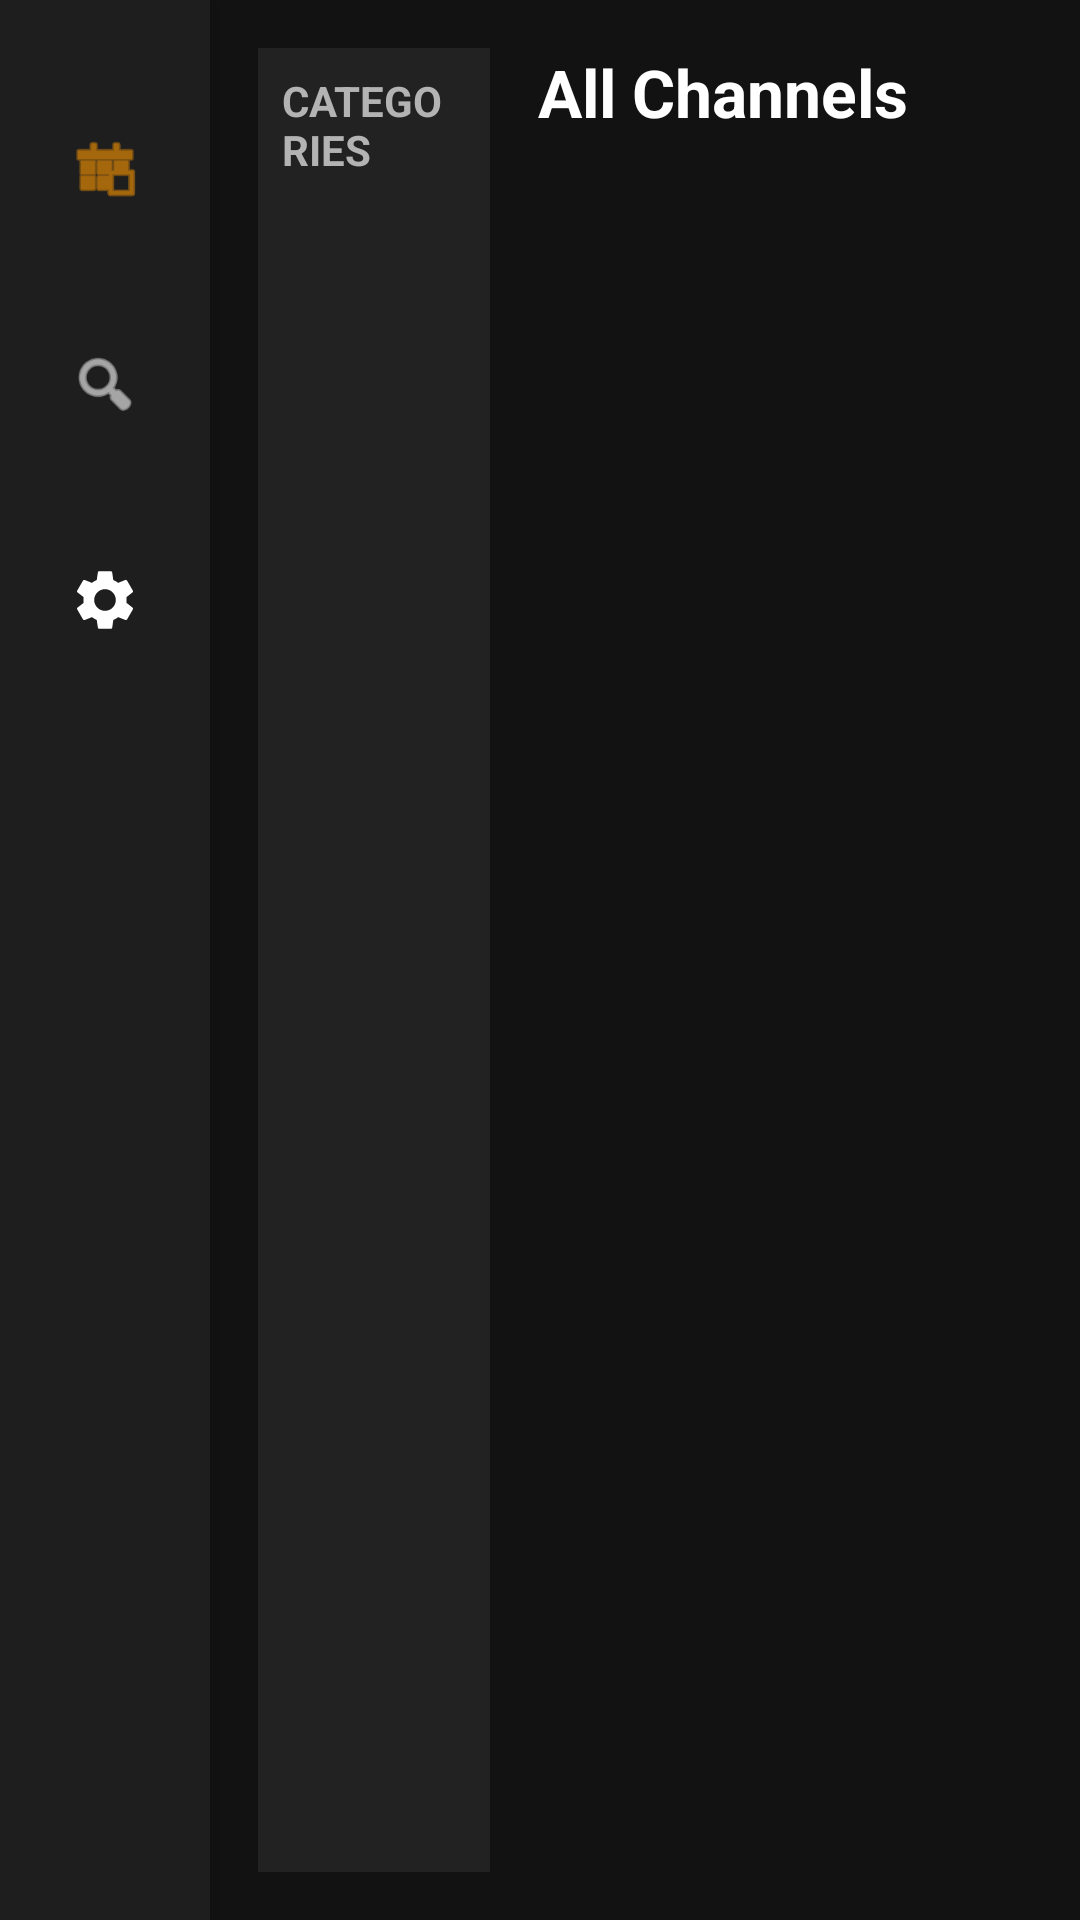

Point at icon controls on the screen. Image size 1080×1920, points as (x,y).
Search: (105,384)
Settings: (105,600)
